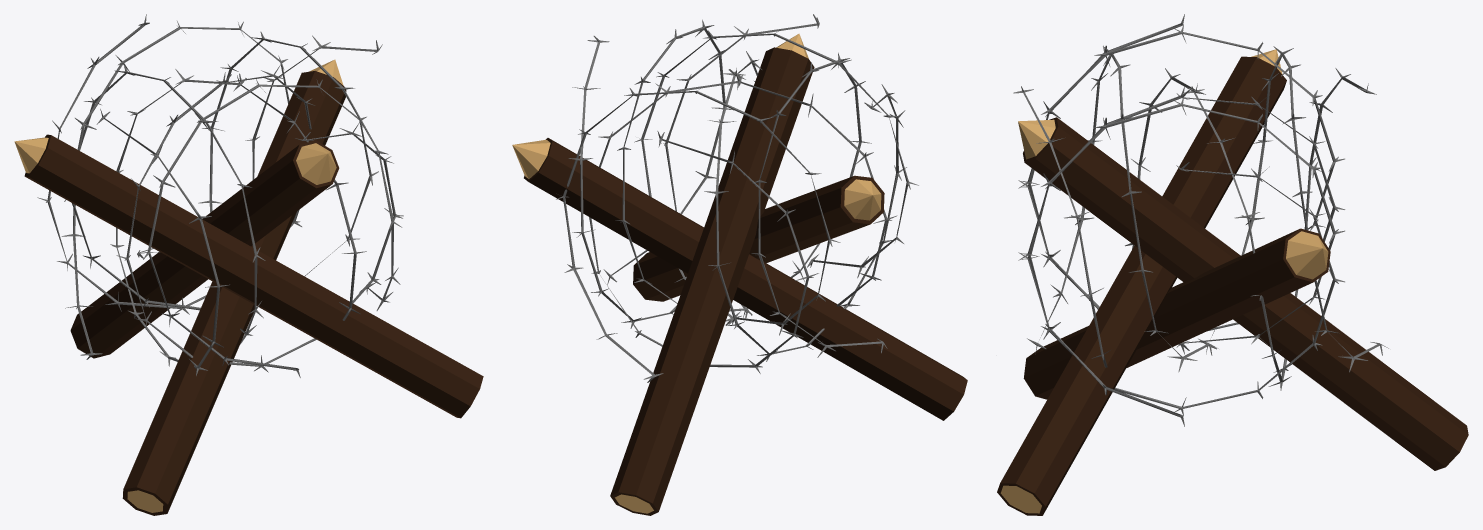
The model's file is wood_barb.glb.
The picture shows the model from 3 angles, left to right: view 1: azimuth 30°, elevation 25°; view 2: azimuth 150°, elevation 25°; view 3: azimuth 270°, elevation 25°; orthographic projection. The views are drawn at different scales.
Parts seen in each view (by area): view 1: Barbed Wire Wooden Baricade.002; view 2: Barbed Wire Wooden Baricade.002; view 3: Barbed Wire Wooden Baricade.002.
Part boxes in pixels (box(x1,y1,x2,y2)): Barbed Wire Wooden Baricade.002: box(14, 14, 483, 515); Barbed Wire Wooden Baricade.002: box(512, 14, 967, 515); Barbed Wire Wooden Baricade.002: box(997, 14, 1468, 515).
Size of the model in its own units: 2.89 by 2.97 by 3.09.
Materials: 1 (1 with a texture image).
